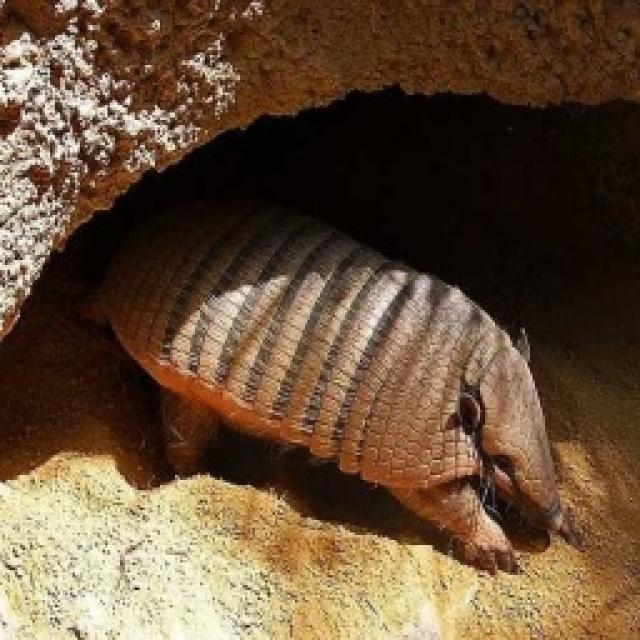not_pig: (1, 1, 638, 638), (90, 195, 585, 577)
